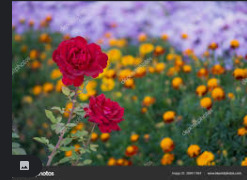RedRose: (52, 32, 119, 90), (81, 93, 125, 134)
